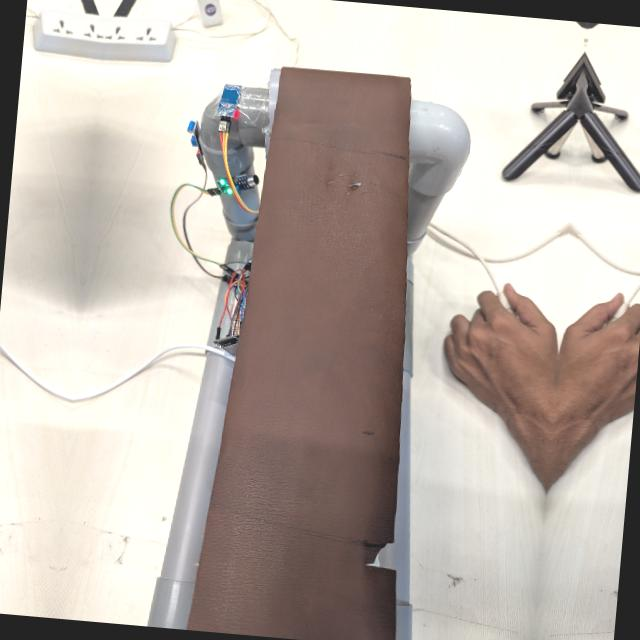belt_crack: (314, 154, 372, 214)
belt_tear: (361, 520, 409, 588)
